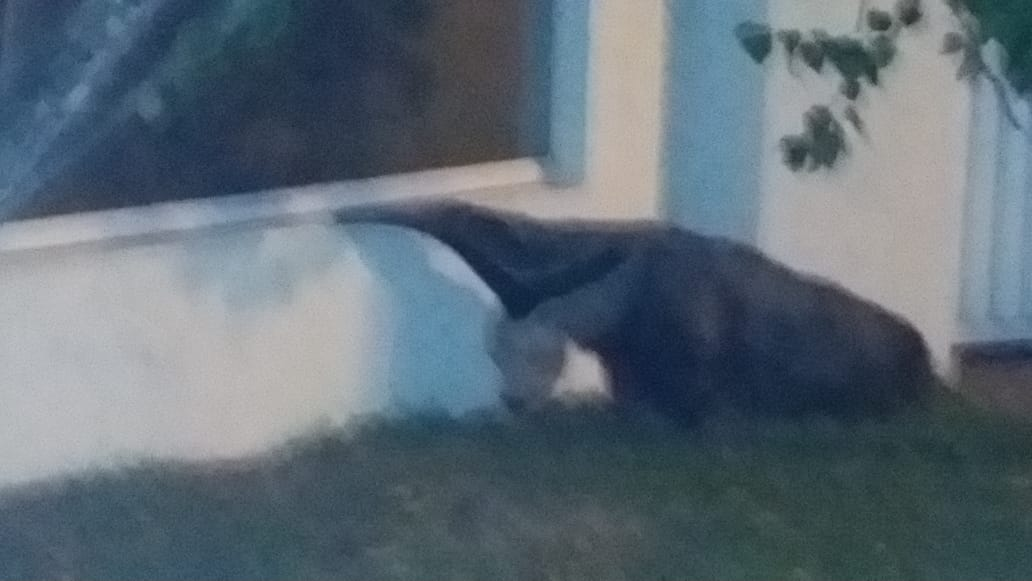TamanduaBandeira: (314, 186, 936, 425)
